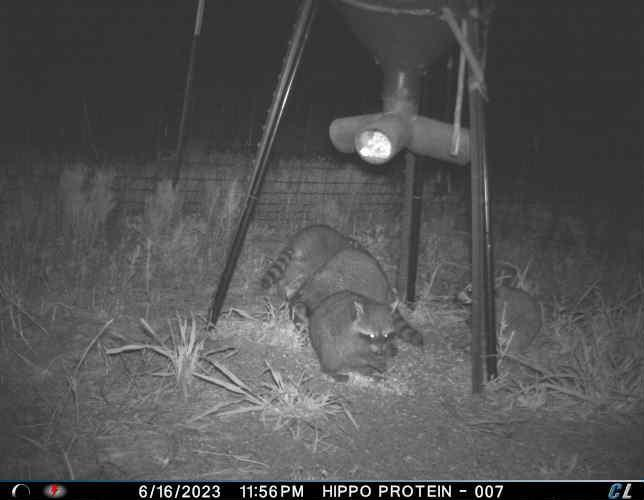Raccoon: (289, 248, 425, 346), (299, 288, 402, 383), (453, 271, 545, 363), (258, 224, 375, 294)
